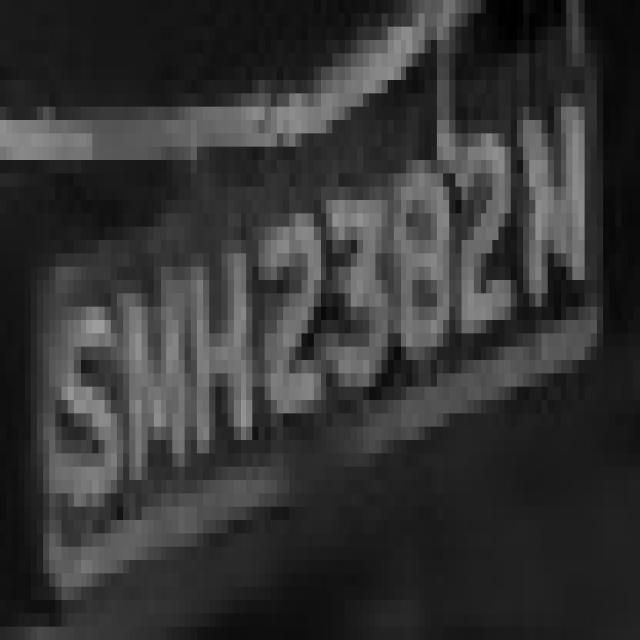2: (437, 80, 517, 387), (240, 187, 326, 440)
3: (308, 146, 394, 426)
8: (376, 106, 450, 386)
H: (178, 200, 258, 493)
M: (511, 53, 597, 347), (104, 213, 178, 507)
S: (43, 266, 117, 546)
